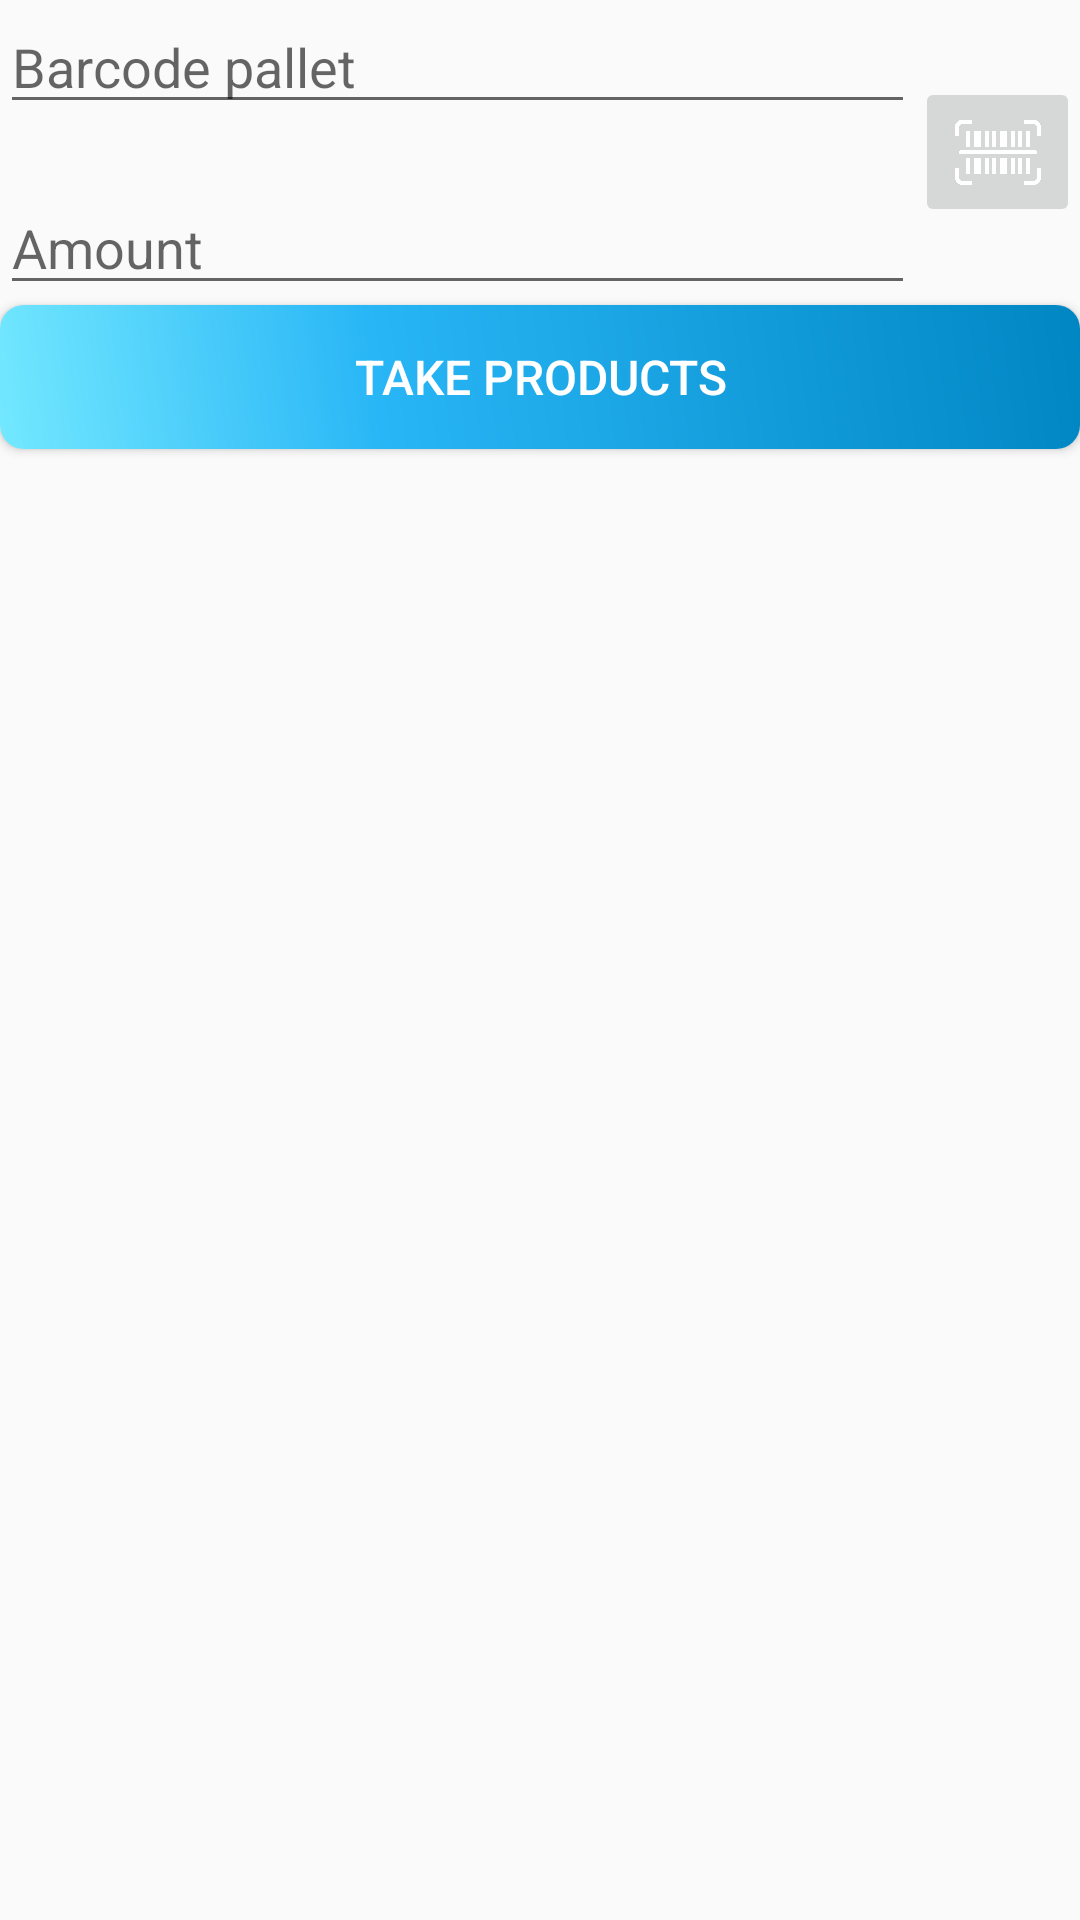

Where icons sit on this 1080px×1920px app screen, as (x1, y1, x2, y2):
scan barcode: (927, 95, 1068, 209)
